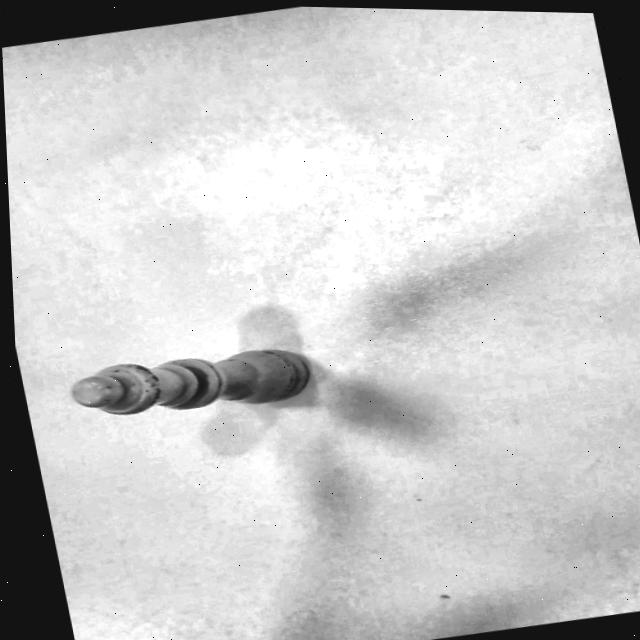white-queen: (46, 326, 336, 443)
